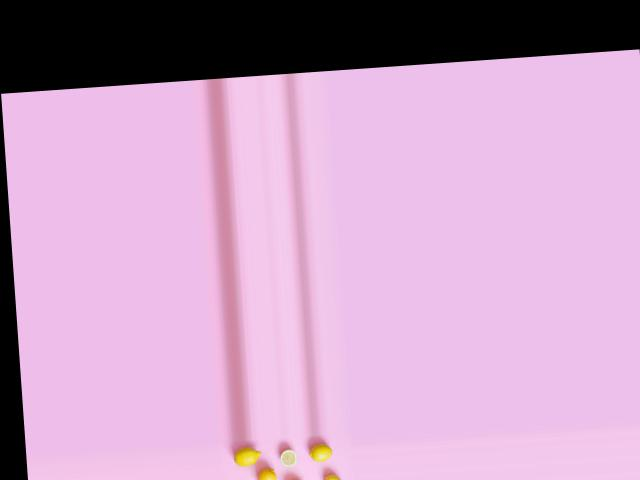lemon: (304, 440, 333, 460)
